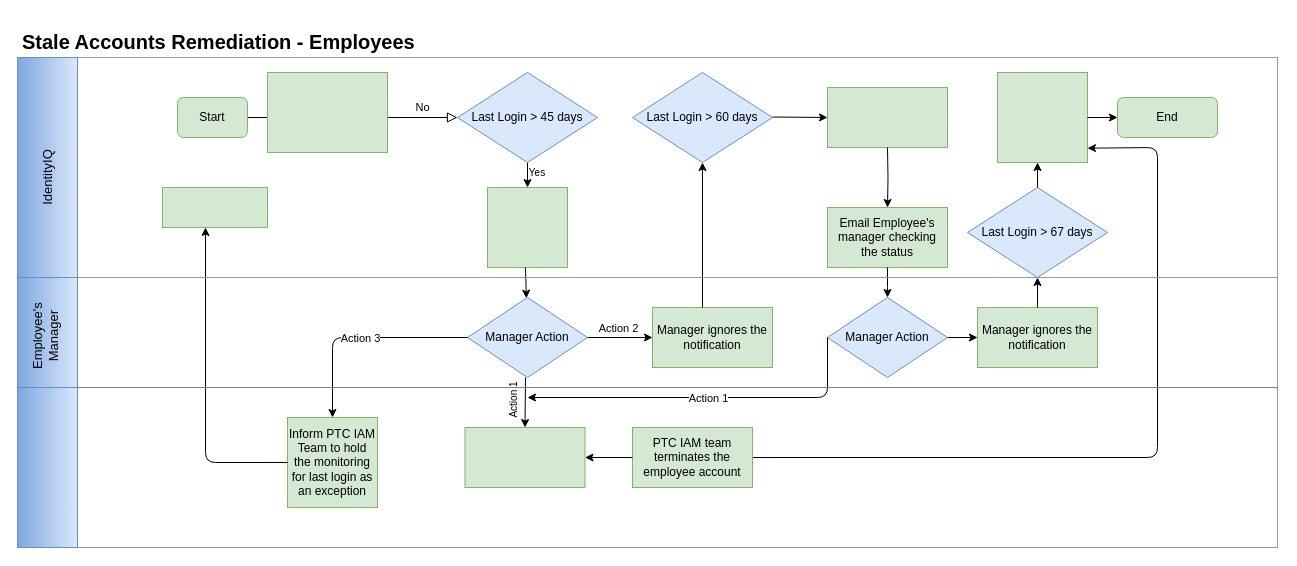
This 1297x566 diagram has some shape labels left out. The box of each missing label's shape, as (x1, y1, x2, y2) in pixels:
Check for LitHold LitHold = true, disable account if not terminate the account: (996, 72, 1088, 162)
Check if Employees last login date exceeds 45 days: (266, 72, 388, 152)
Email Employees manager checking status: (486, 186, 568, 268)
Inform PTC IAM Team to terminate the user account: (464, 426, 585, 488)
Lock the account - no AD groups removed: (826, 86, 948, 148)
PTC IAM Team: (16, 386, 78, 548)
Suspend the monitoring last login: (162, 186, 268, 228)
